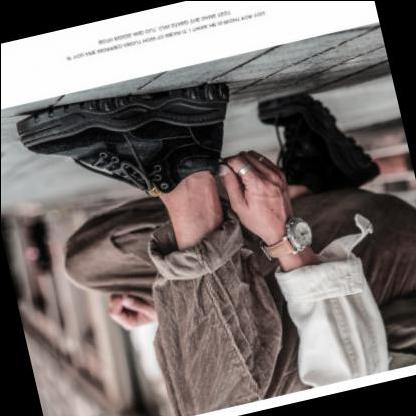safety-shoe: (7, 34, 251, 206), (244, 53, 392, 215)
